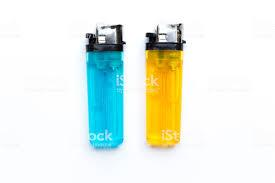lighter: (85, 25, 124, 153), (148, 26, 185, 152)
